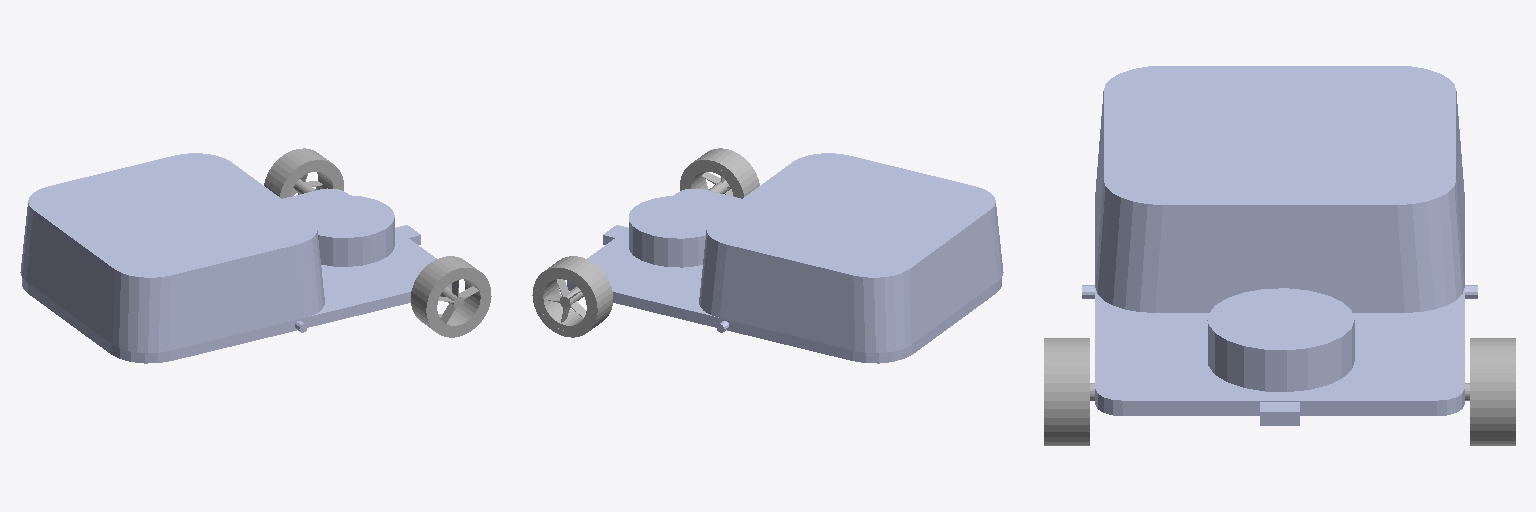
The robot description file, URDF, robot "Assem5":
<?xml version="1.0" encoding="utf-8"?>
<!-- This URDF was automatically created by SolidWorks to URDF Exporter! Originally created by [author] ([email redacted]) 
     Commit Version: 1.6.0-4-g7f85cfe  Build Version: 1.6.7995.38578
     For more information, please see http://wiki.ros.org/sw_urdf_exporter -->
<robot
  name="Assem5">
  <link
    name="base_link">
    <inertial>
      <origin
        xyz="-0.0519027671846017 2.7645074374652E-05 0.0312601129481959"
        rpy="0 0 0" />
      <mass
        value="3.12503740346226" />
      <inertia
        ixx="0.0101802209294379"
        ixy="-8.32731972476421E-06"
        ixz="-0.000407868204595875"
        iyy="0.0140826384459327"
        iyz="-1.47425502690866E-06"
        izz="0.0225402056092829" />
    </inertial>
    <visual>
      <origin
        xyz="0 0 0"
        rpy="0 0 0" />
      <geometry>
        <mesh
          filename="package://Assem5/meshes/base_link.STL" />
      </geometry>
      <material
        name="">
        <color
          rgba="0.792156862745098 0.819607843137255 0.933333333333333 1" />
      </material>
    </visual>
    <collision>
      <origin
        xyz="0 0 0"
        rpy="0 0 0" />
      <geometry>
        <mesh
          filename="package://Assem5/meshes/base_link.STL" />
      </geometry>
    </collision>
  </link>
  <link
    name="left_wheel">
    <inertial>
      <origin
        xyz="0.119946229458579 -0.117198107643109 0.00492452483658509"
        rpy="0 0 0" />
      <mass
        value="0.0154842443751589" />
      <inertia
        ixx="6.32949606004192E-06"
        ixy="2.91175550249844E-22"
        ixz="-8.82281936056068E-23"
        iyy="1.06002362306982E-05"
        iyz="2.70221847327768E-23"
        izz="6.32949606004191E-06" />
    </inertial>
    <visual>
      <origin
        xyz="0 0 0"
        rpy="0 0 0" />
      <geometry>
        <mesh
          filename="package://Assem5/meshes/left_wheel.STL" />
      </geometry>
      <material
        name="">
        <color
          rgba="0.752941176470588 0.752941176470588 0.752941176470588 1" />
      </material>
    </visual>
    <collision>
      <origin
        xyz="0 0 0"
        rpy="0 0 0" />
      <geometry>
        <mesh
          filename="package://Assem5/meshes/left_wheel.STL" />
      </geometry>
    </collision>
  </link>
  <joint
    name="left_wheelj"
    type="continuous">
    <origin
      xyz="0 0 0"
      rpy="0 0 0" />
    <parent
      link="base_link" />
    <child
      link="left_wheel" />
    <axis
      xyz="0 -1 0" />
  </joint>
  <link
    name="right_wheel">
    <inertial>
      <origin
        xyz="0.119946222993201 0.117198107643112 0.00492452660000059"
        rpy="0 0 0" />
      <mass
        value="0.0154842443751589" />
      <inertia
        ixx="6.3294960600419E-06"
        ixy="-8.72737624636687E-22"
        ixz="1.80070720815117E-22"
        iyy="1.06002362306982E-05"
        iyz="3.01996515628913E-20"
        izz="6.3294960600419E-06" />
    </inertial>
    <visual>
      <origin
        xyz="0 0 0"
        rpy="0 0 0" />
      <geometry>
        <mesh
          filename="package://Assem5/meshes/right_wheel.STL" />
      </geometry>
      <material
        name="">
        <color
          rgba="0.752941176470588 0.752941176470588 0.752941176470588 1" />
      </material>
    </visual>
    <collision>
      <origin
        xyz="0 0 0"
        rpy="0 0 0" />
      <geometry>
        <mesh
          filename="package://Assem5/meshes/right_wheel.STL" />
      </geometry>
    </collision>
  </link>
  <joint
    name="right_wheelj"
    type="continuous">
    <origin
      xyz="0 0 0"
      rpy="0 0 0" />
    <parent
      link="base_link" />
    <child
      link="right_wheel" />
    <axis
      xyz="0 1 0" />
  </joint>
</robot>

--- What the picture shows (computed from the rendered views, not written in the file) ---
Views: 3 orthographic renders of the robot side by side, from view 1: azimuth 30°, elevation 25°; view 2: azimuth 150°, elevation 25°; view 3: azimuth 270°, elevation 25°.
Robot: Assem5 — 3 links, 2 joints (2 continuous); root link base_link; default pose: all joints at 0.
Visible links, largest first — view 1: base_link, left_wheel, right_wheel; view 2: base_link, right_wheel, left_wheel; view 3: base_link, left_wheel, right_wheel.
Boxes of the visible links, left/top/right/bottom form: base_link: left=20, top=153, right=451, bottom=363; left_wheel: left=411, top=256, right=491, bottom=337; right_wheel: left=264, top=148, right=343, bottom=198; base_link: left=567, top=153, right=1003, bottom=363; right_wheel: left=532, top=256, right=612, bottom=337; left_wheel: left=680, top=148, right=759, bottom=198; base_link: left=1082, top=66, right=1477, bottom=425; left_wheel: left=1044, top=338, right=1094, bottom=445; right_wheel: left=1465, top=338, right=1515, bottom=445.
Size in the robot's own frame: 0.3175 by 0.2594 by 0.1062 metres.
Meshes: 3 distinct files referenced, 3 mesh visuals loaded (3 binary STL).